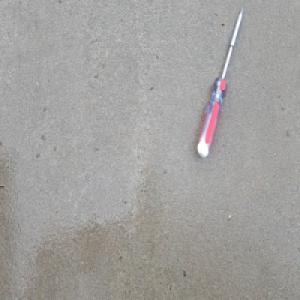Screwdriver: (196, 5, 245, 159)
